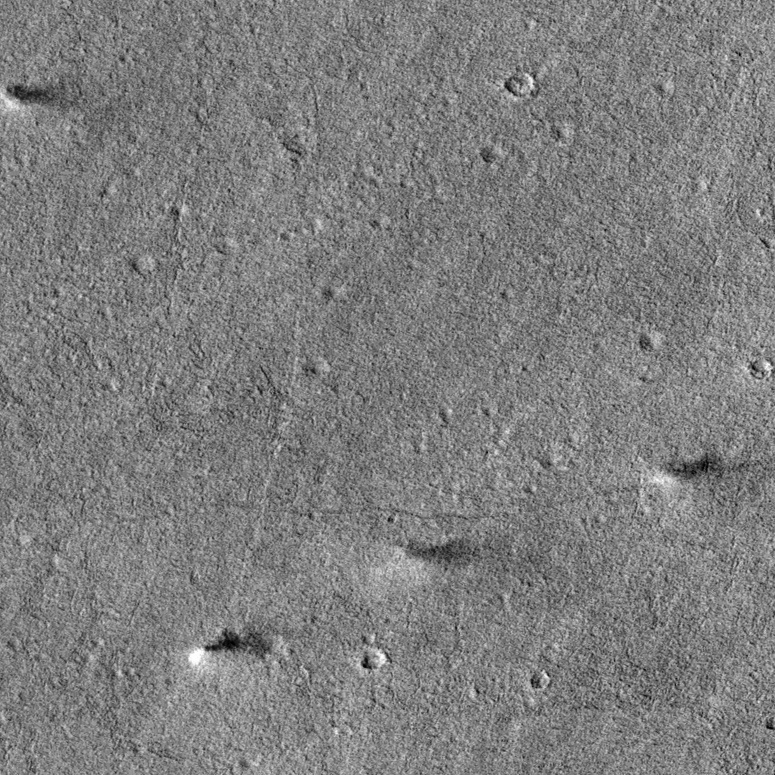dust_devil: (374, 537, 478, 577), (186, 627, 274, 668), (650, 450, 725, 488), (1, 82, 56, 109)
